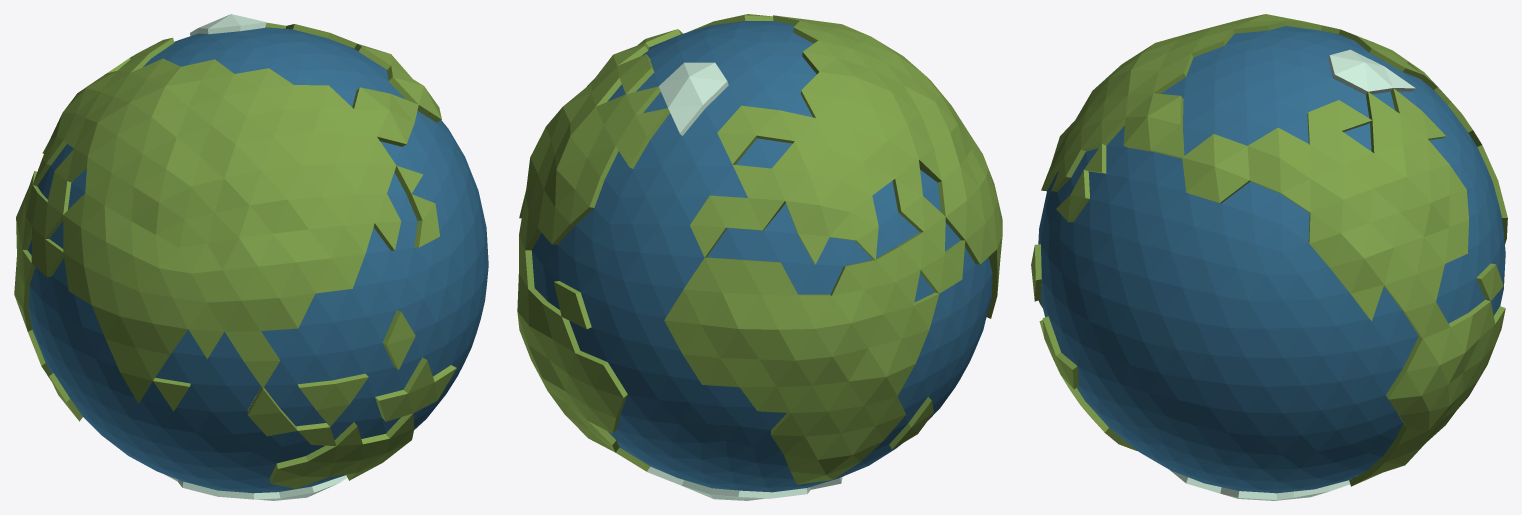
Rendered from earth.gltf.
3 views of the same model, side by side, from view 1: azimuth 30°, elevation 25°; view 2: azimuth 150°, elevation 25°; view 3: azimuth 270°, elevation 25° (orthographic).
Visible parts, largest first — view 1: URF-Height; view 2: URF-Height; view 3: URF-Height.
Boxes of the visible parts, x1,y1,x2,y2 form: URF-Height: (14,14,488,500); URF-Height: (517,14,1002,500); URF-Height: (1031,14,1507,500).
Size of the model in its own units: 201 by 206 by 203.
